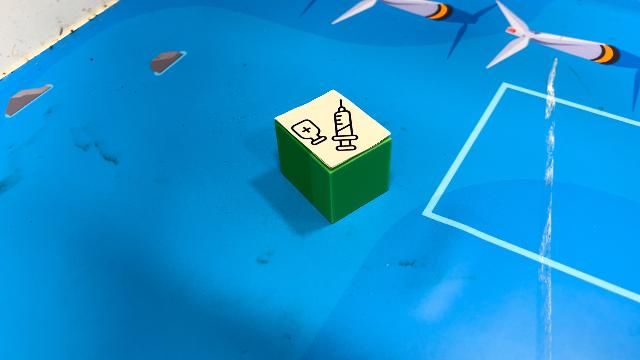syringe: (274, 88, 392, 224)
